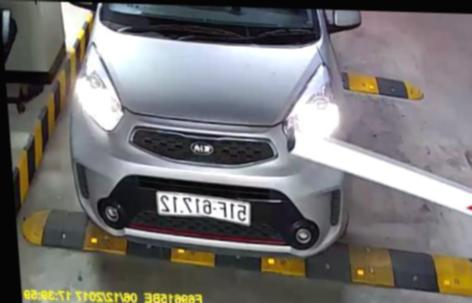License_Plate: (150, 187, 259, 227)
